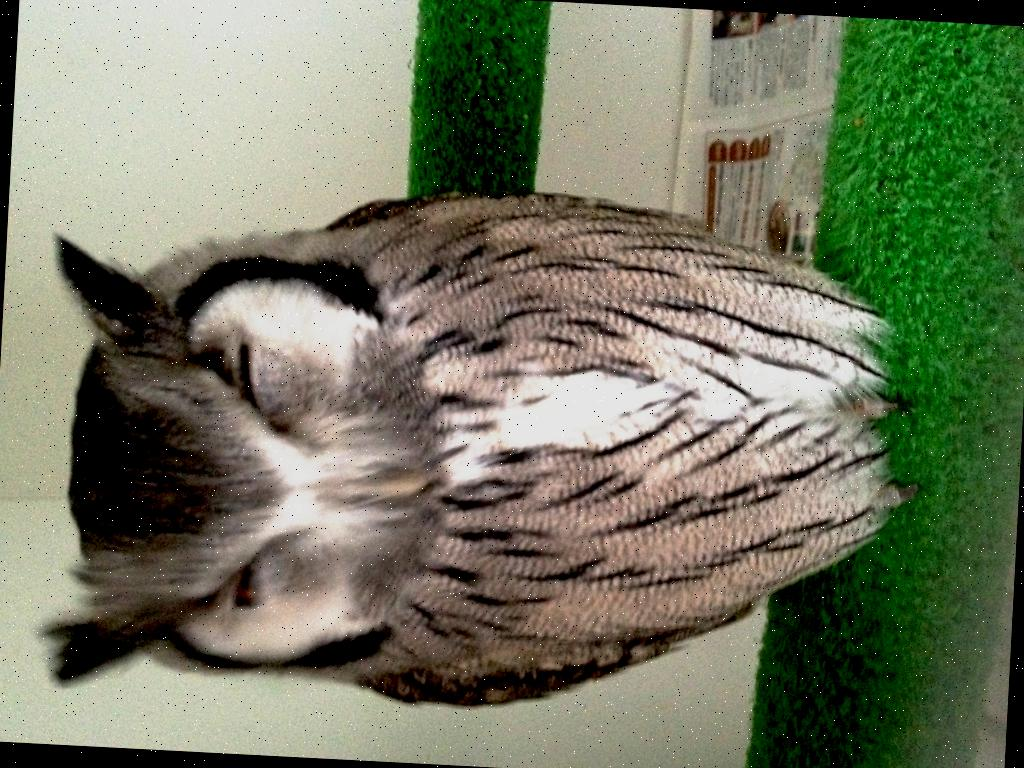Owl: (31, 163, 937, 734)
